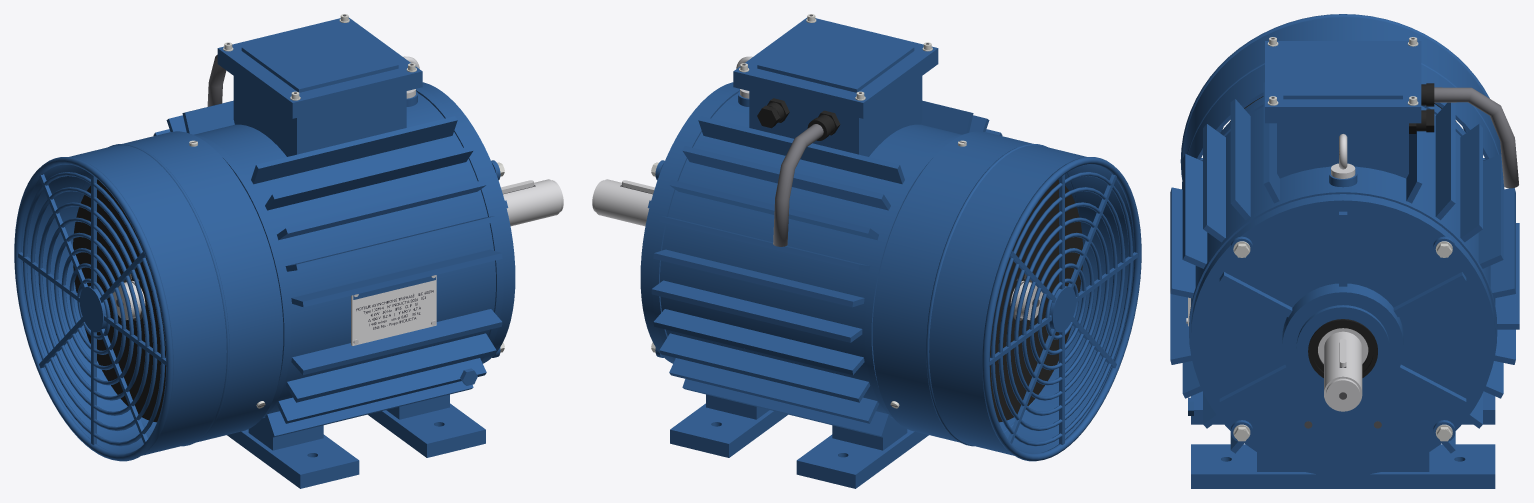
Rendered from moteur_asynchrone.glb.
3 views of the same model, side by side, from view 1: azimuth 30°, elevation 25°; view 2: azimuth 150°, elevation 25°; view 3: azimuth 270°, elevation 25° (orthographic). The views are drawn at different scales.
Visible parts, largest first — view 1: Carcasse, Capot_Ventilateur, Couvercle_Bornes, Boite_a_Bornes, Ventilateur, Plaque_Signaletique, Flasque_Avant, Arbre, Plaque_Texte; view 2: Carcasse, Capot_Ventilateur, Couvercle_Bornes, Boite_a_Bornes, Ventilateur, Flasque_Avant, Arbre; view 3: Flasque_Avant, Carcasse, Couvercle_Bornes, Capot_Ventilateur, Boite_a_Bornes, Arbre, Joint_Arbre, Anneau_Levage.
Part boxes in pixels (x1,y1,x2,y2): Carcasse: (153,87,503,488); Capot_Ventilateur: (14,131,282,461); Couvercle_Bornes: (217,17,422,118); Boite_a_Bornes: (207,54,406,153); Ventilateur: (73,179,166,422); Plaque_Signaletique: (351,275,436,345); Flasque_Avant: (421,82,515,363); Arbre: (112,179,563,320); Plaque_Texte: (356,290,433,329); Carcasse: (651,87,1002,488); Capot_Ventilateur: (873,131,1141,461); Couvercle_Bornes: (733,17,938,118); Boite_a_Bornes: (749,76,922,246); Ventilateur: (989,179,1082,422); Flasque_Avant: (640,82,734,363); Arbre: (592,179,1043,320); Flasque_Avant: (1191,194,1495,476); Carcasse: (1170,82,1519,488); Couvercle_Bornes: (1265,41,1421,123); Capot_Ventilateur: (1180,14,1504,189); Boite_a_Bornes: (1277,83,1518,188); Arbre: (1318,328,1368,411); Joint_Arbre: (1308,319,1377,377); Anneau_Levage: (1331,134,1355,178).
Bounding box in the file's own units: 0.5514 × 0.4063 × 0.3443.
